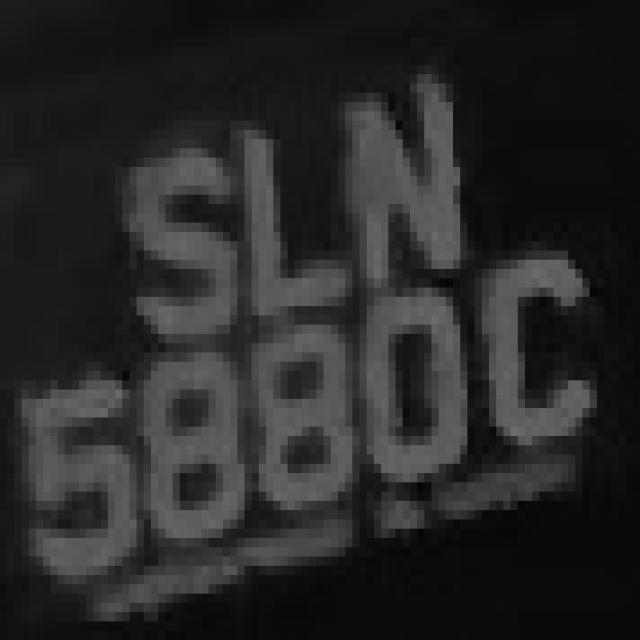0: (345, 278, 475, 510)
5: (14, 362, 144, 621)
8: (230, 288, 352, 575), (136, 334, 252, 547)
C: (474, 241, 582, 520)
L: (209, 93, 345, 343)
N: (330, 65, 474, 287)
S: (100, 102, 244, 362)
